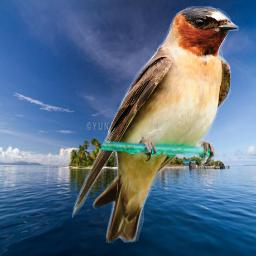Swallow: (72, 6, 239, 243)
